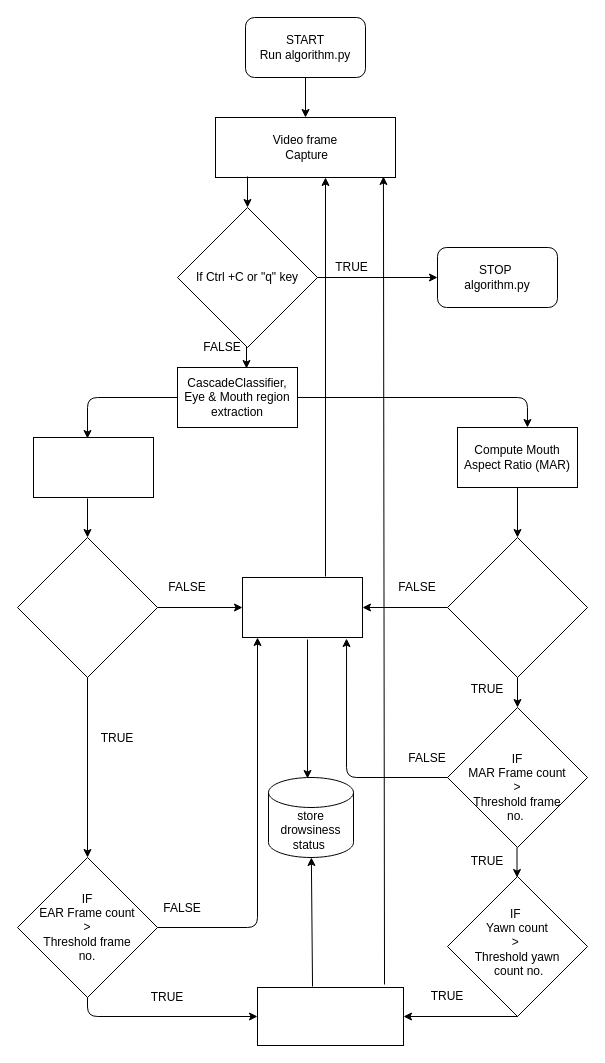
Some shapes in this 605 by 1063 pixel diagram are drawn without their labels. Each missing label, with the box of its shape:
Compute Eye Aspect Ratio (EAR): (32, 436, 154, 498)
IF EAR<Threshold EAR: (16, 536, 158, 678)
IF MAR<Threshold MAR: (446, 536, 588, 678)
POST(Drowsiness Status False): (242, 576, 362, 638)
POST(Drowsiness Status True): (256, 986, 404, 1046)
